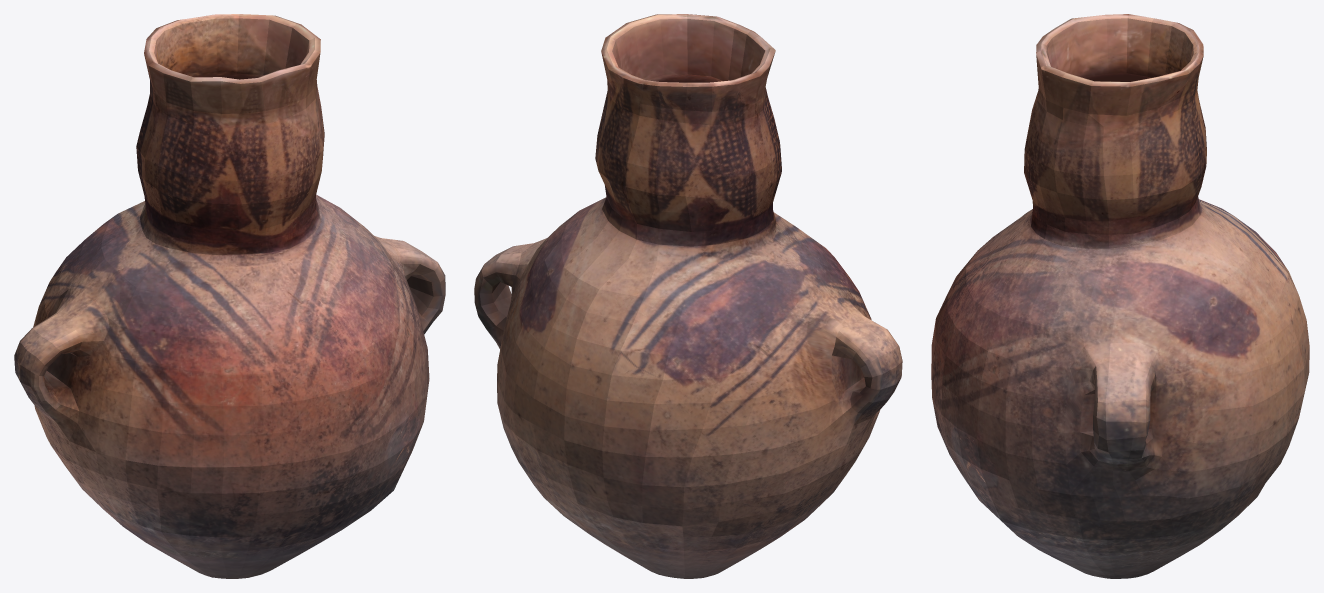
Rendered from objeto08.FBX.
The picture shows the model from 3 angles, left to right: view 1: azimuth 30°, elevation 25°; view 2: azimuth 150°, elevation 25°; view 3: azimuth 270°, elevation 25°; orthographic projection.
Visible parts, largest first — view 1: TopoSurface001; view 2: TopoSurface001; view 3: TopoSurface001.
Part boxes in pixels (<box>): TopoSurface001: <box>14,14,445,578</box>; TopoSurface001: <box>474,14,902,578</box>; TopoSurface001: <box>931,14,1309,578</box>.
Bounding box in the file's own units: 61.58 × 73.68 × 48.52.
